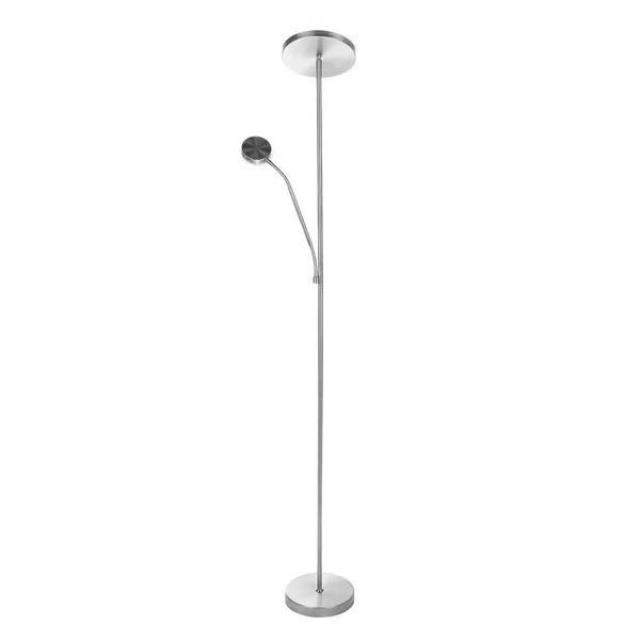Pole: (283, 30, 356, 618)
